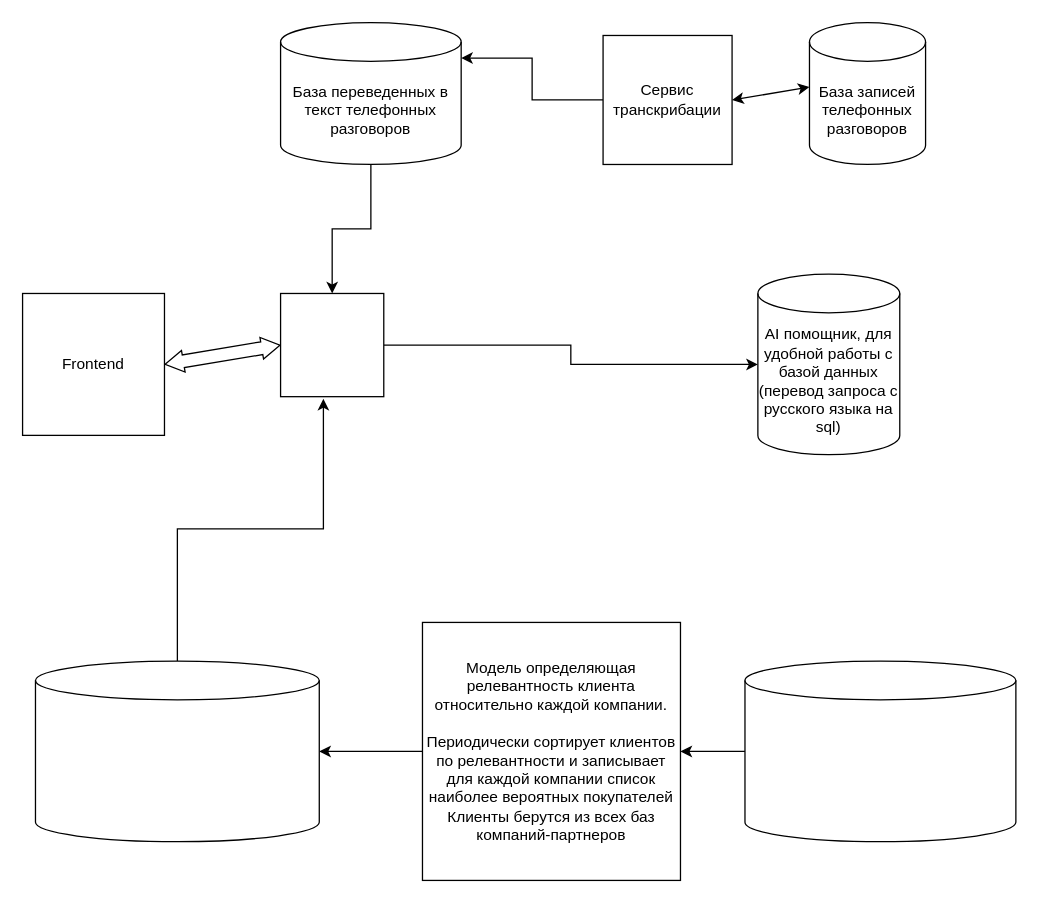
The diagram is 1038 pixels wide and 903 high, and some of its shapes have lost their labels. Each missing label, with the centre of its shape:
Api: the point at 331,344
База данных отдельной компании, с отранжированным списком потенциальных клиентов: the point at 176,751
Базы данных компаний партнеров: the point at 880,751
